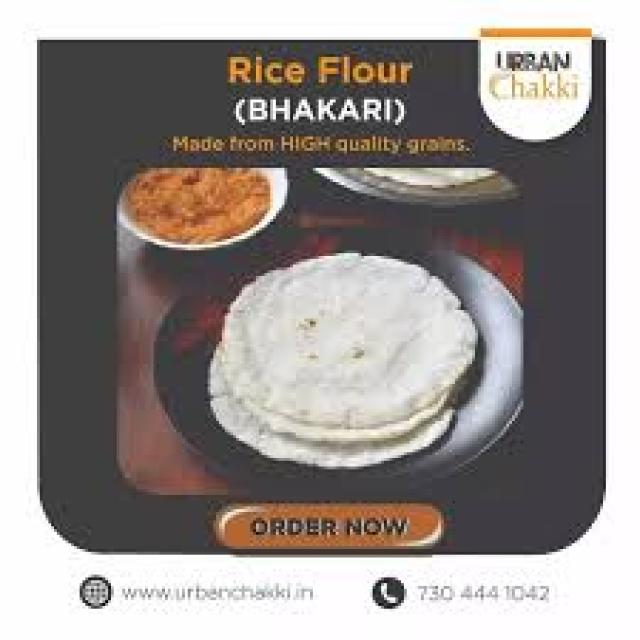RICE BHAKRI: (210, 247, 478, 441)
